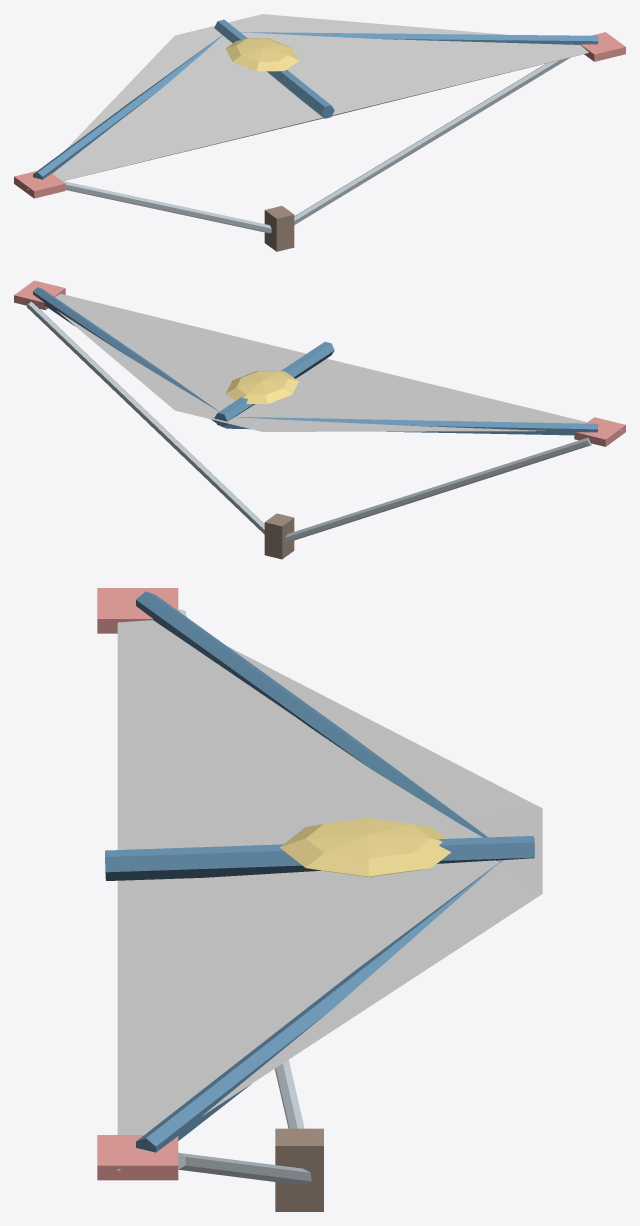
The model's file is planeador_frenado.glb.
3 views of the same model, one above another, from view 1: azimuth 30°, elevation 25°; view 2: azimuth 150°, elevation 25°; view 3: azimuth 270°, elevation 25° (orthographic). The views are drawn at different scales.
Parts seen in each view (by area): view 1: planeador_frenado; view 2: planeador_frenado; view 3: planeador_frenado.
Part boxes in pixels (left/top/right/bottom): planeador_frenado: left=14, top=14, right=625, bottom=251; planeador_frenado: left=14, top=280, right=625, bottom=559; planeador_frenado: left=97, top=588, right=542, bottom=1211.
Size of the model in its own units: 3.4 by 1 by 1.1.
